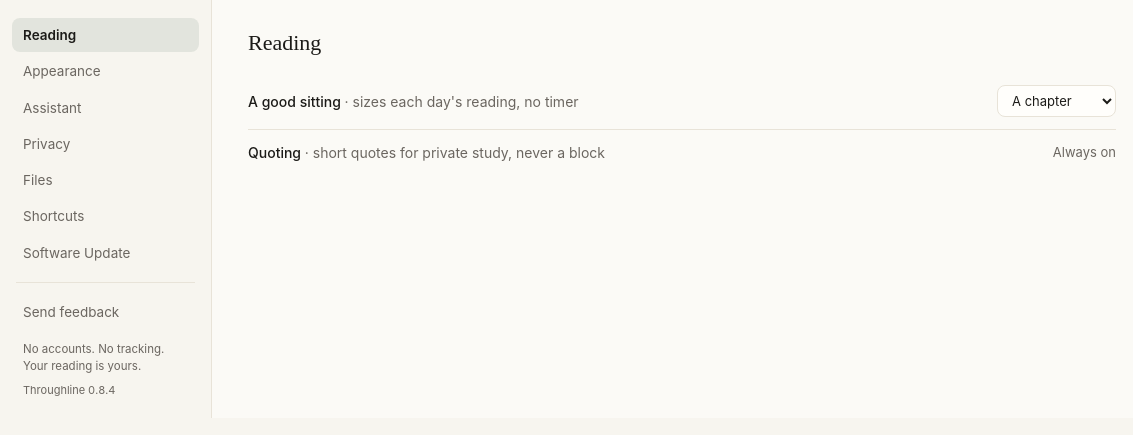
it: Settings — left rail › opens to Reading, and clicking a rail item switches the pane
The image size is (1133, 435).
Check: the heading "Reading" is shown, box [248,30,321,55]
Click the button "Appearance".
click(106, 71)  # box [12,54,199,89]
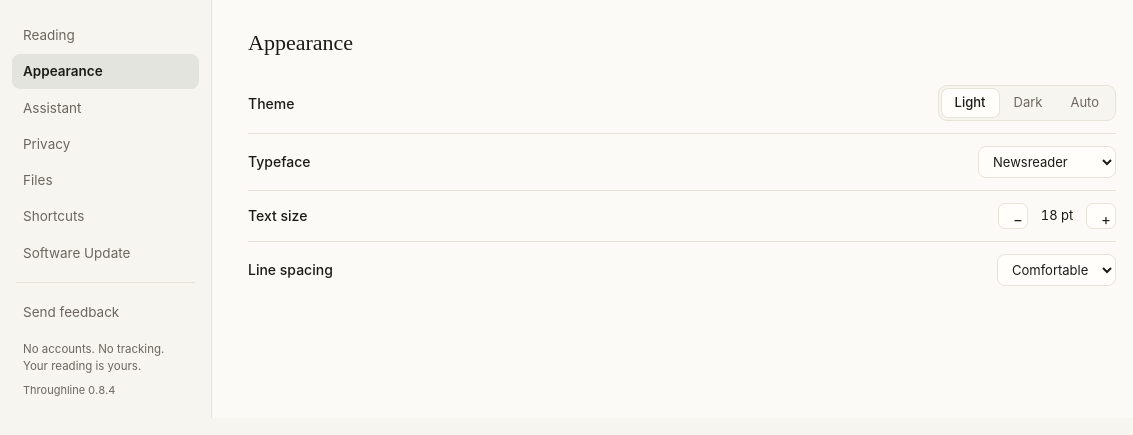
Check: the heading "Appearance" is shown, box [248,30,353,55]
